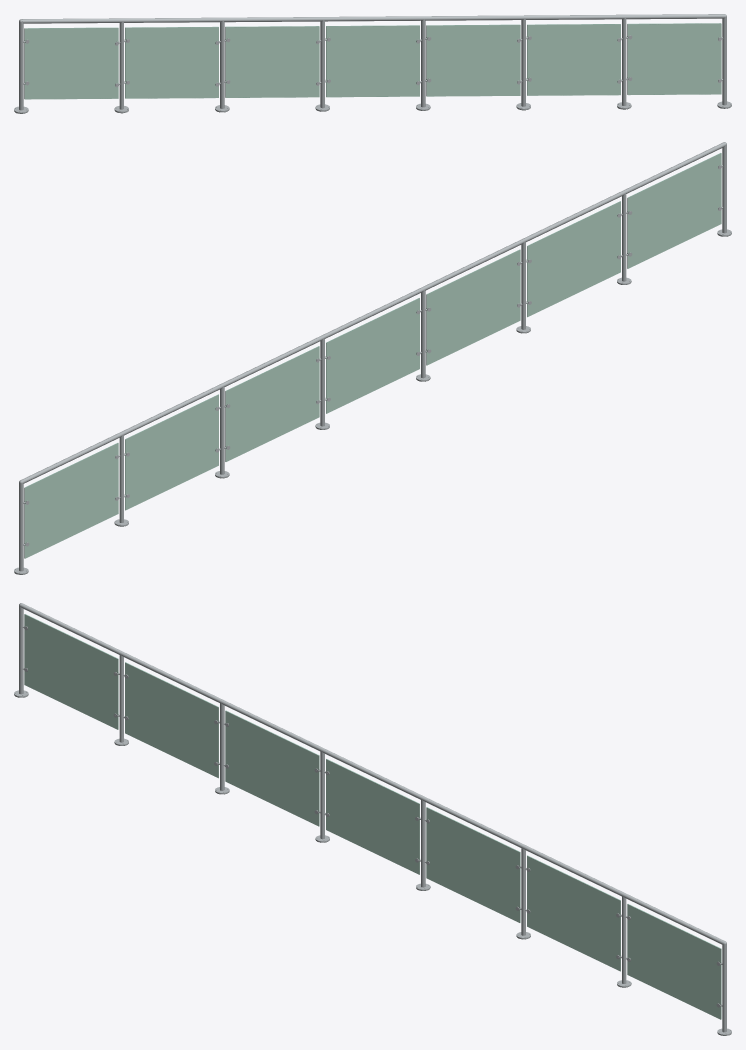
File: glass-stairs.glb
3 views of the same model, one above another, from view 1: azimuth 30°, elevation 25°; view 2: azimuth 210°, elevation 25°; view 3: azimuth 330°, elevation 25° (orthographic).
Parts seen in each view (by area): view 1: glass_panel (×7), handrail, upright (×8); view 2: glass_panel (×7), handrail; view 3: glass_panel (×7), handrail.
Part boxes in pixels (x1,y1,x2,y2): glass_panel (×7): (24,23,721,99); handrail: (22,14,725,23); upright (×8): (19,17,726,110); glass_panel (×7): (24,153,721,558); handrail: (20,142,725,483); glass_panel (×7): (24,614,721,1019); handrail: (20,603,725,944).
Bounding box in the file's own units: 9 × 3.1 × 0.16.
